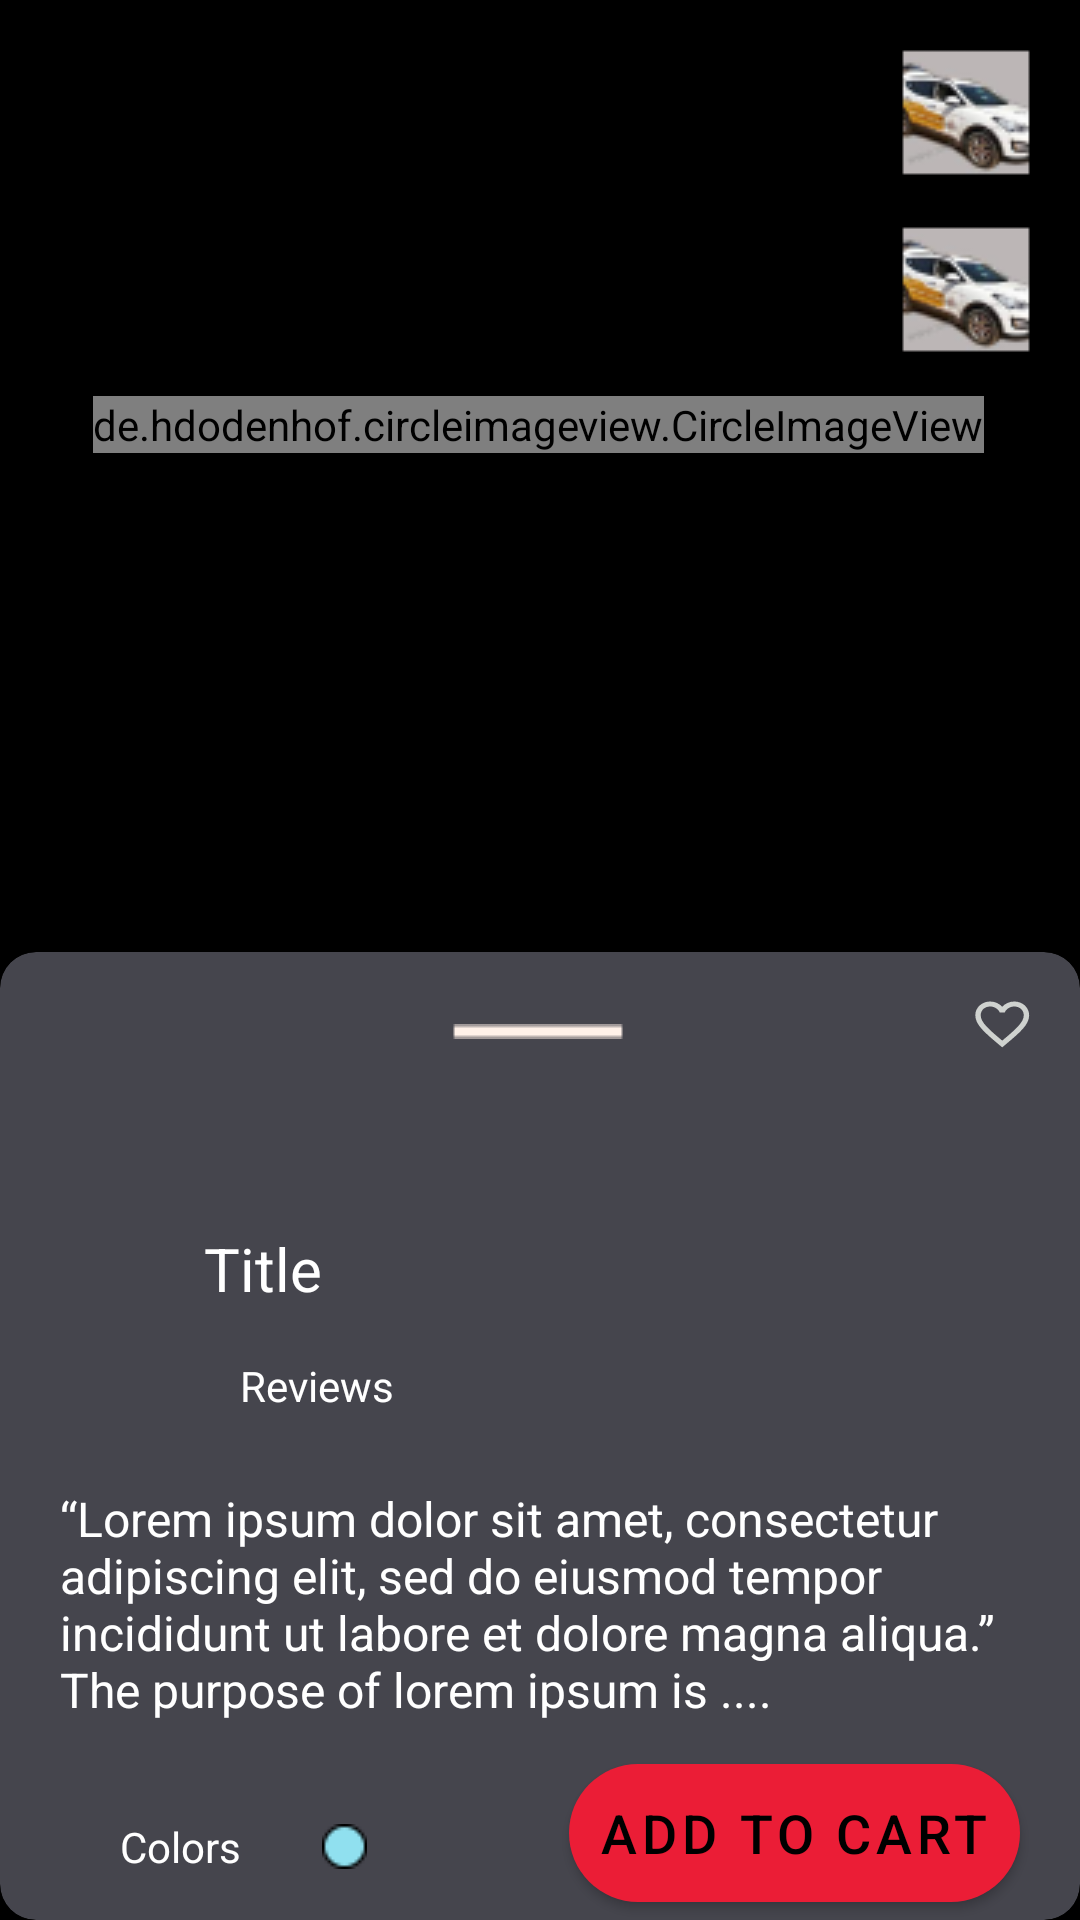

Named icons in this screenshot (1080px×1920px) and their bounding boxes, (x1,y1,x2,y2):
heart: (975,1001,1029,1047)
